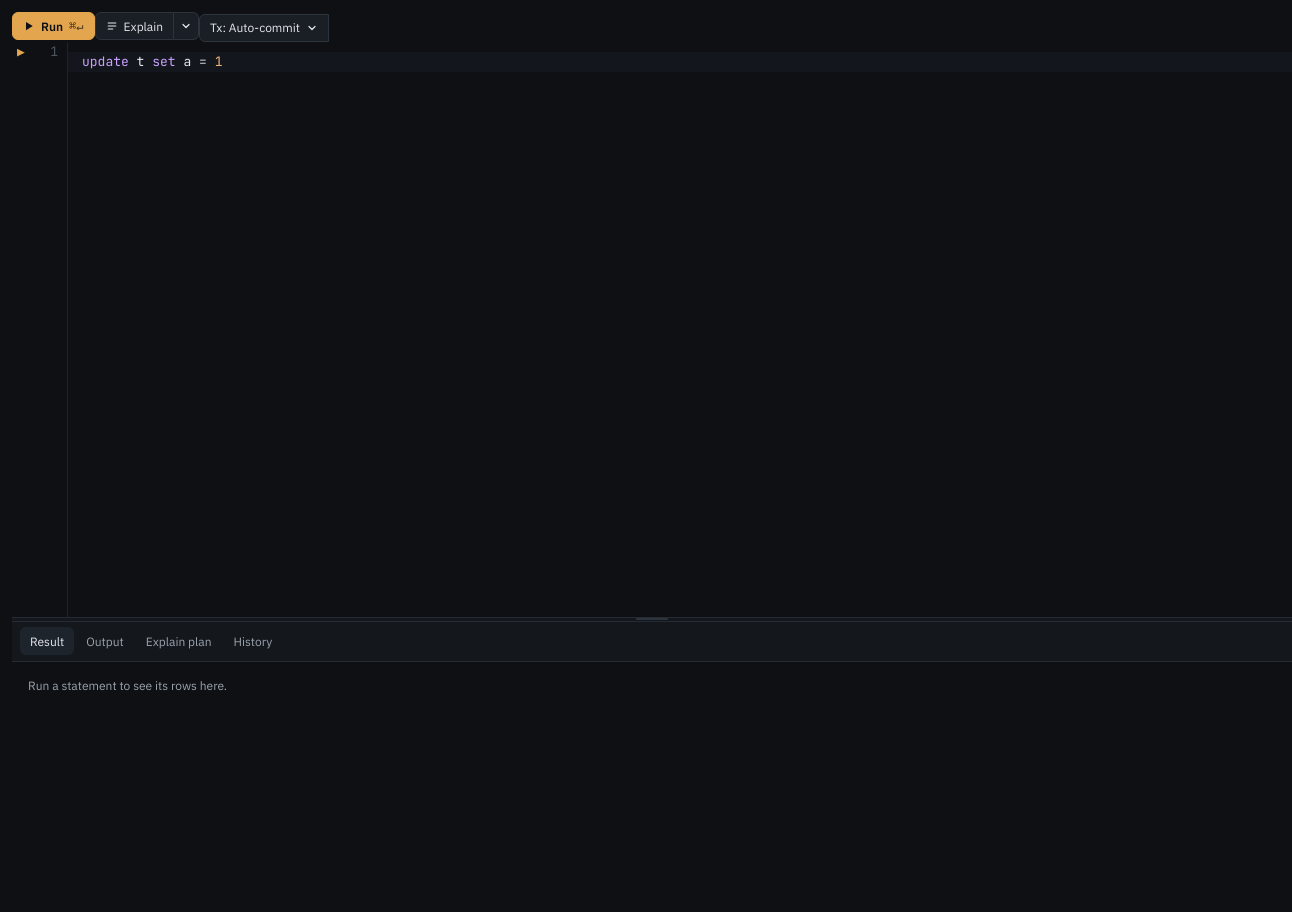
transaction mode › switches to Manual and shows Commit and Rollback
The width and height of the screenshot is (1292, 912).
Click the button "Tx: Auto-commit": [264, 28] box [199,14,329,42]
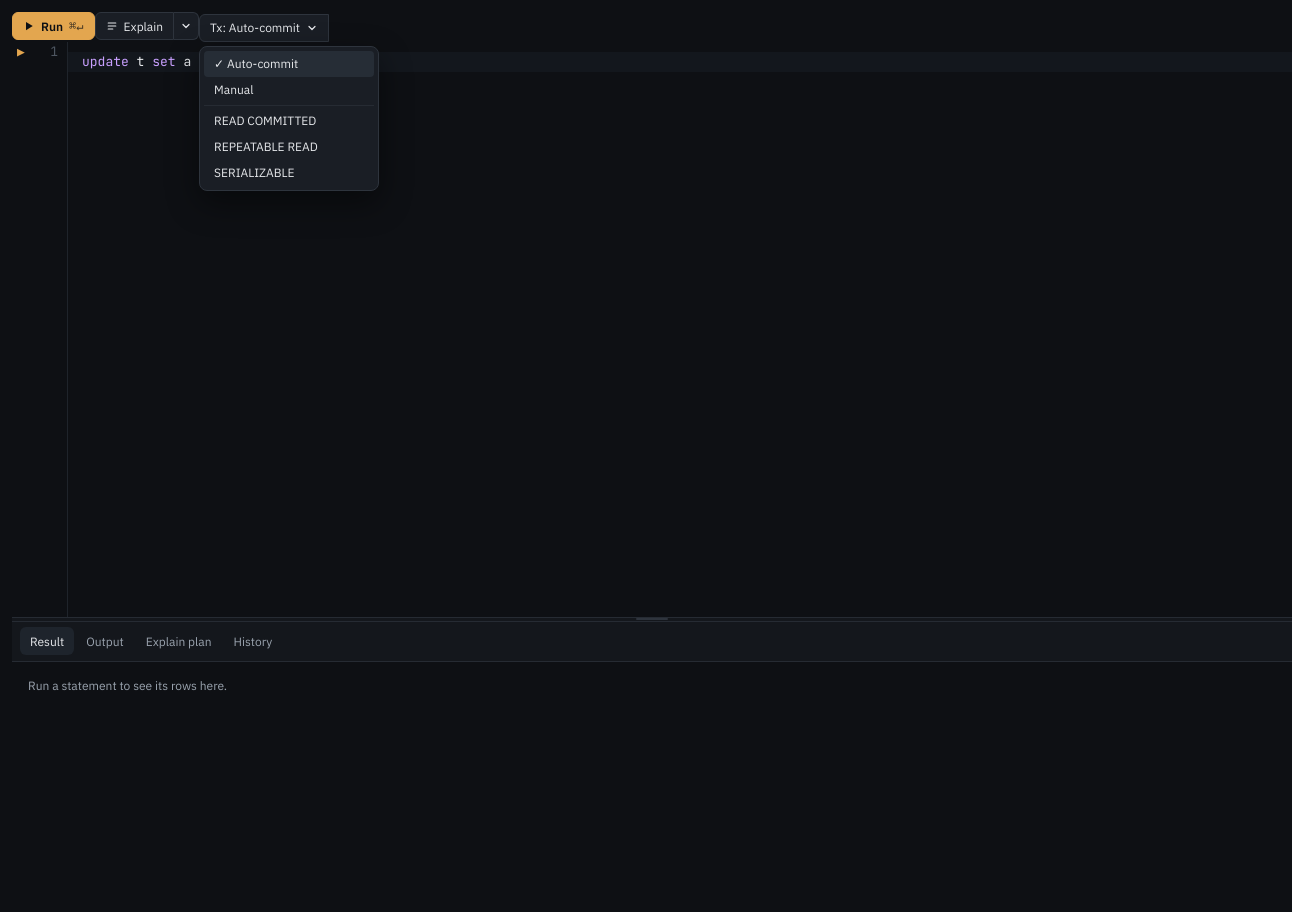
Click the menu item "Manual": [289, 90] box [204,76,374,102]
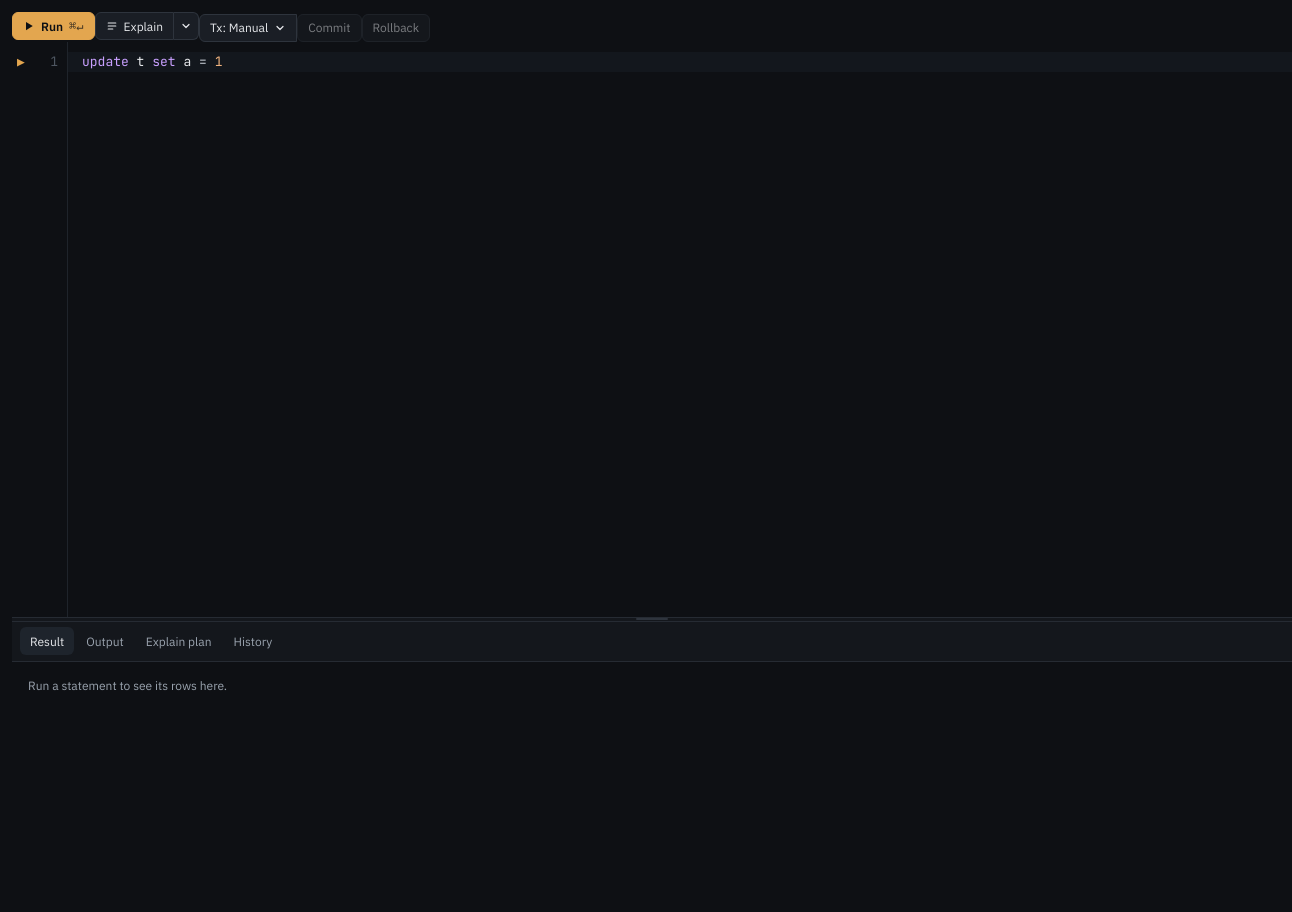
Expected: the button "Commit" is disabled, [297,14,362,42]
Expected: the button "Tx: Manual" is shown, [199,14,297,42]
Expected: the button "Rollback" is disabled, [362,14,430,42]
